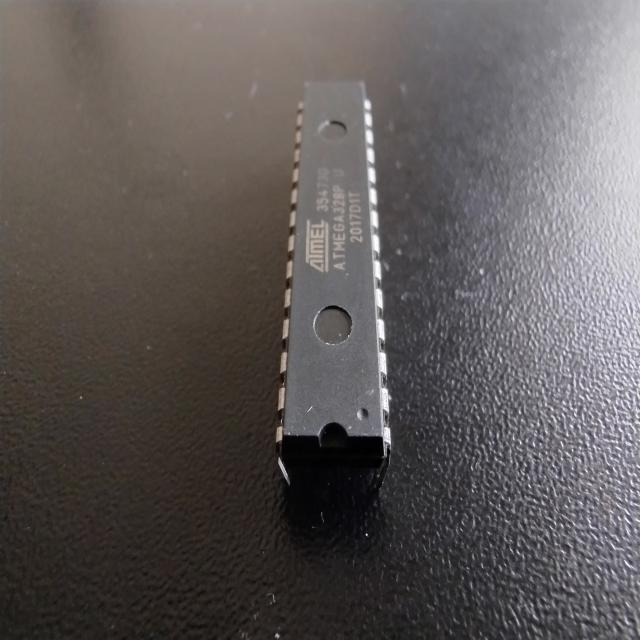atmega: (274, 77, 393, 501)
